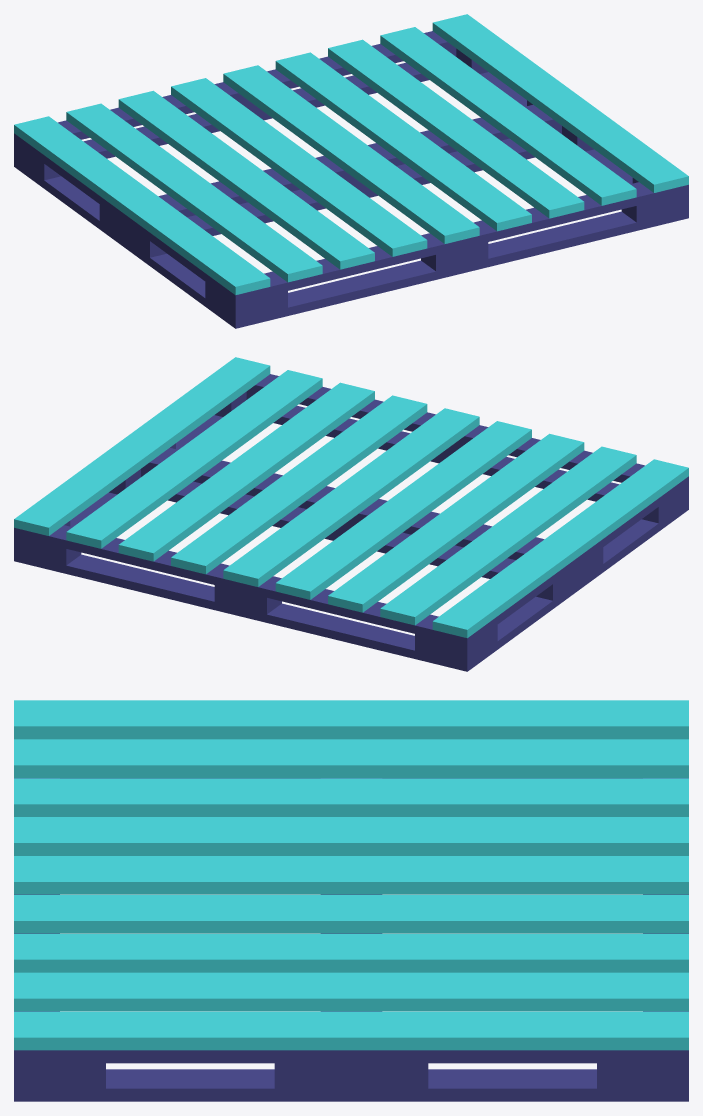
The model's file is Wood_Pallet.fbx.
3 renders of one model, top to bottom at view 1: azimuth 30°, elevation 25°; view 2: azimuth 150°, elevation 25°; view 3: azimuth 270°, elevation 25°, orthographic. The views are drawn at different scales.
Visible parts, largest first — view 1: Wood_Pallet_Top_low, Wood_Pallet_Main_low; view 2: Wood_Pallet_Top_low, Wood_Pallet_Main_low; view 3: Wood_Pallet_Top_low, Wood_Pallet_Main_low.
Boxes of the visible parts, x1=… form: Wood_Pallet_Top_low: x1=14, y1=14, x2=688, y2=295; Wood_Pallet_Main_low: x1=14, y1=31, x2=688, y2=328; Wood_Pallet_Top_low: x1=14, y1=357, x2=688, y2=638; Wood_Pallet_Main_low: x1=14, y1=374, x2=688, y2=671; Wood_Pallet_Top_low: x1=14, y1=700, x2=688, y2=1050; Wood_Pallet_Main_low: x1=14, y1=778, x2=688, y2=1101.
Bounding box in the file's own units: 130 × 11.5 × 110.
